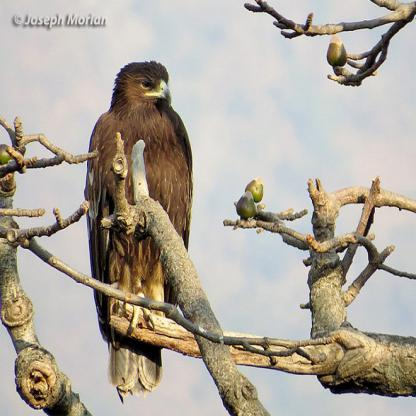Burung: (90, 54, 195, 398)
